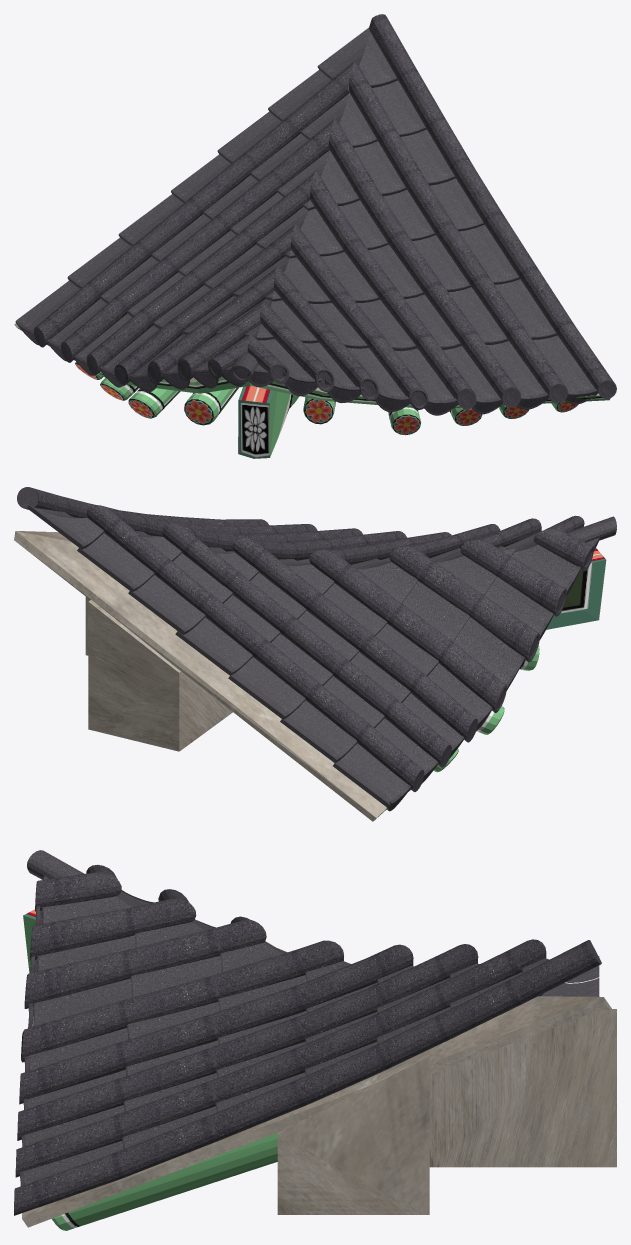
The model's file is SM_R_RoofCorner_7.fbx.
3 views of the same model, one above another, from view 1: azimuth 30°, elevation 25°; view 2: azimuth 150°, elevation 25°; view 3: azimuth 270°, elevation 25° (orthographic). The views are drawn at different scales.
Parts seen in each view (by area): view 1: SM_R_RoofCorner_7; view 2: SM_R_RoofCorner_7; view 3: SM_R_RoofCorner_7.
Part boxes in pixels (x1,y1,x2,y2): SM_R_RoofCorner_7: [14, 14, 616, 458]; SM_R_RoofCorner_7: [14, 487, 616, 821]; SM_R_RoofCorner_7: [14, 850, 616, 1230].
Size of the model in its own units: 267 by 297 by 173.
4 materials, 4 textured.
